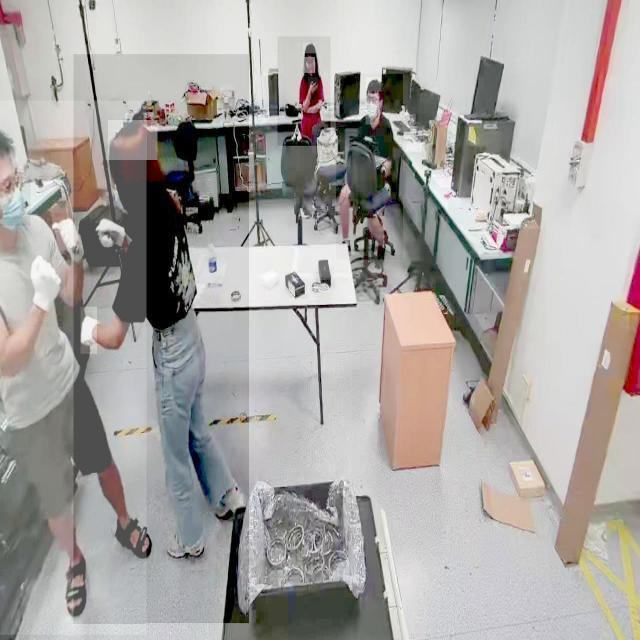boots: (210, 472, 250, 525), (164, 522, 207, 565)
gloves: (26, 255, 64, 327), (94, 208, 128, 263), (54, 212, 84, 260), (81, 306, 97, 354)
